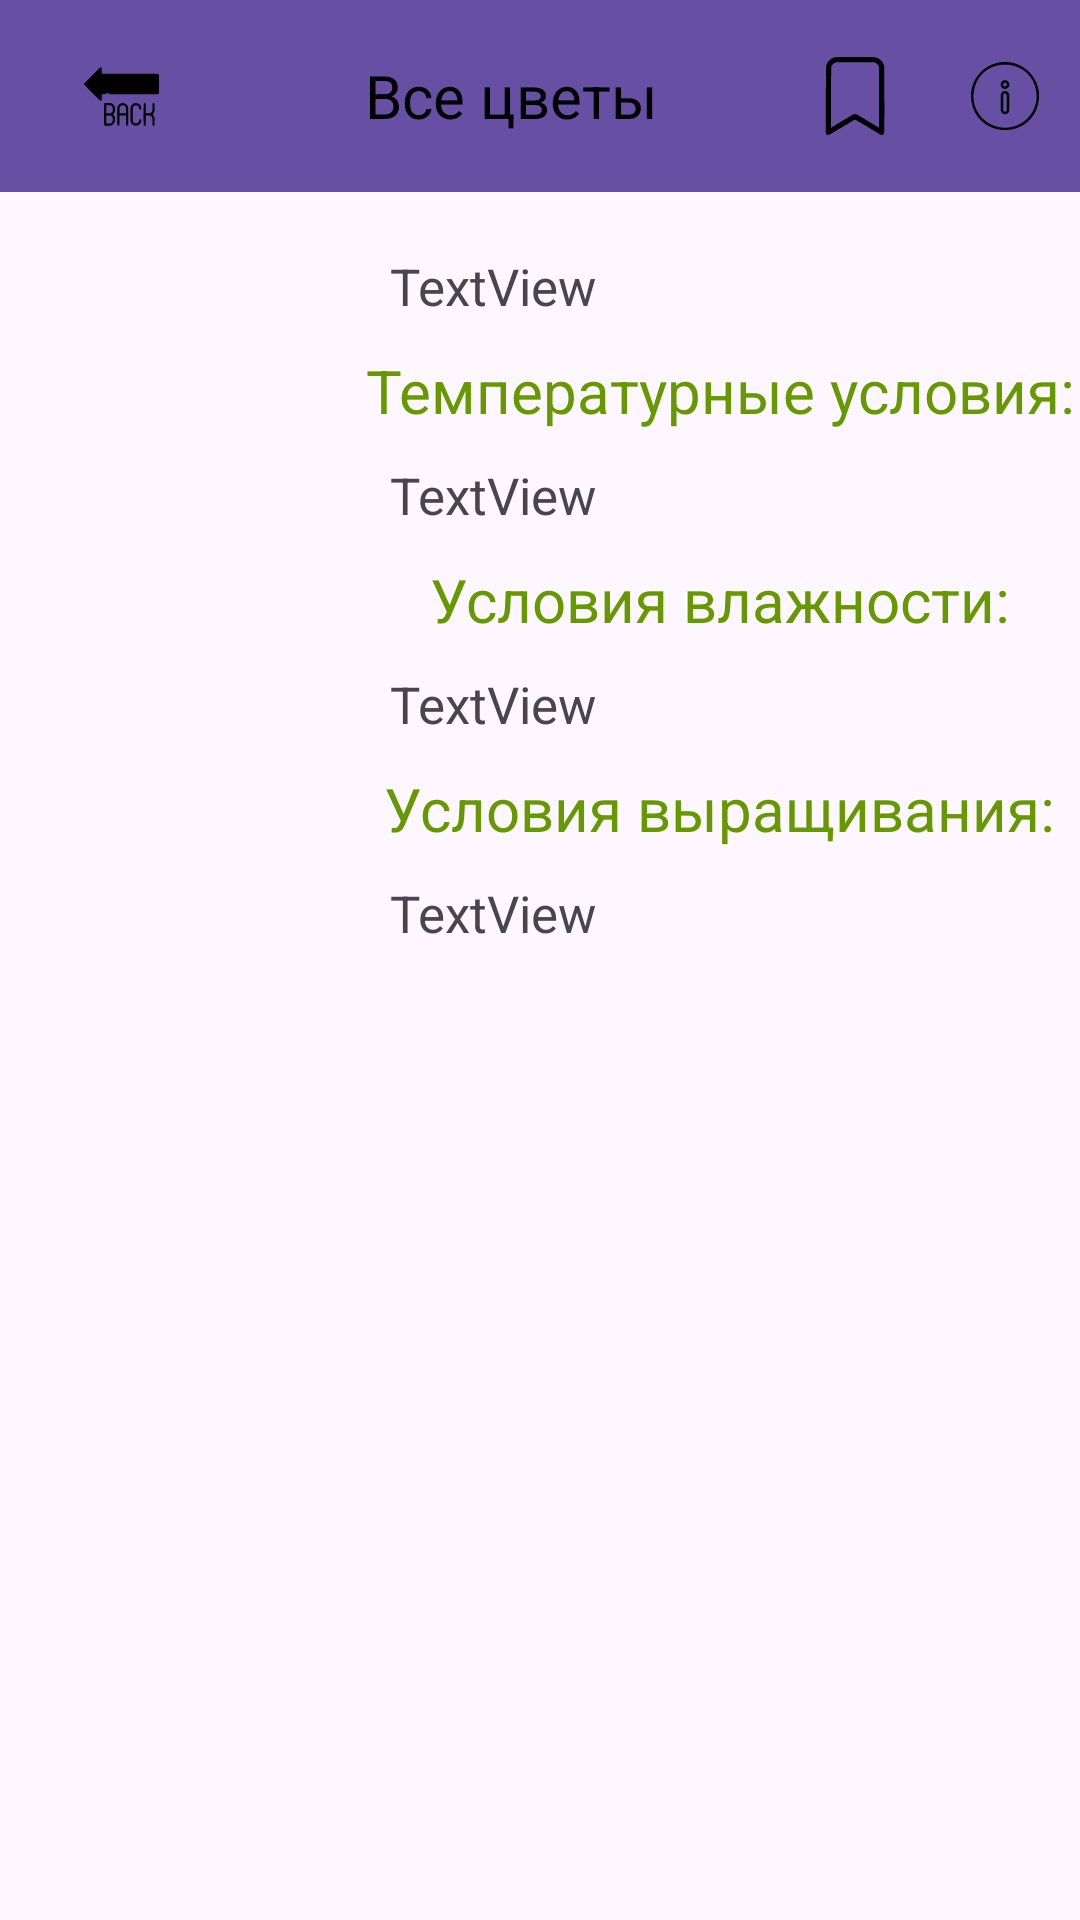

Named icons in this screenshot (1080*1920) and their bounding boxes, BBox(x1, y1, x2, y2):
free details: BBox(971, 62, 1039, 130)
